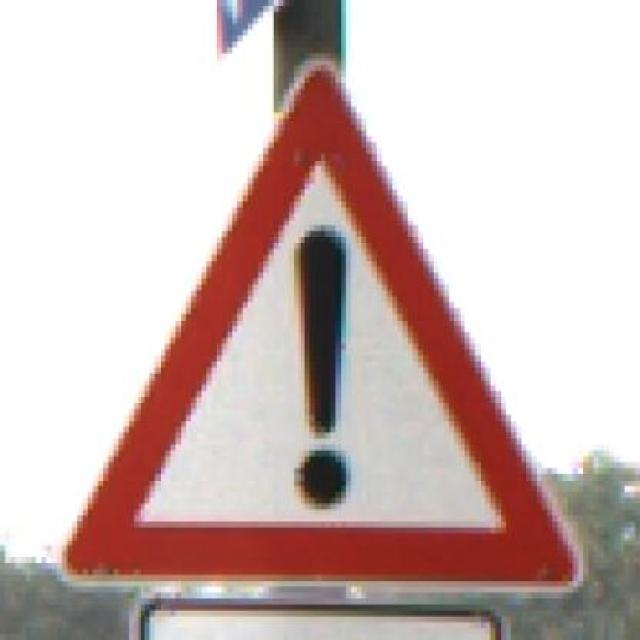Attention Please-: (49, 52, 596, 602)
